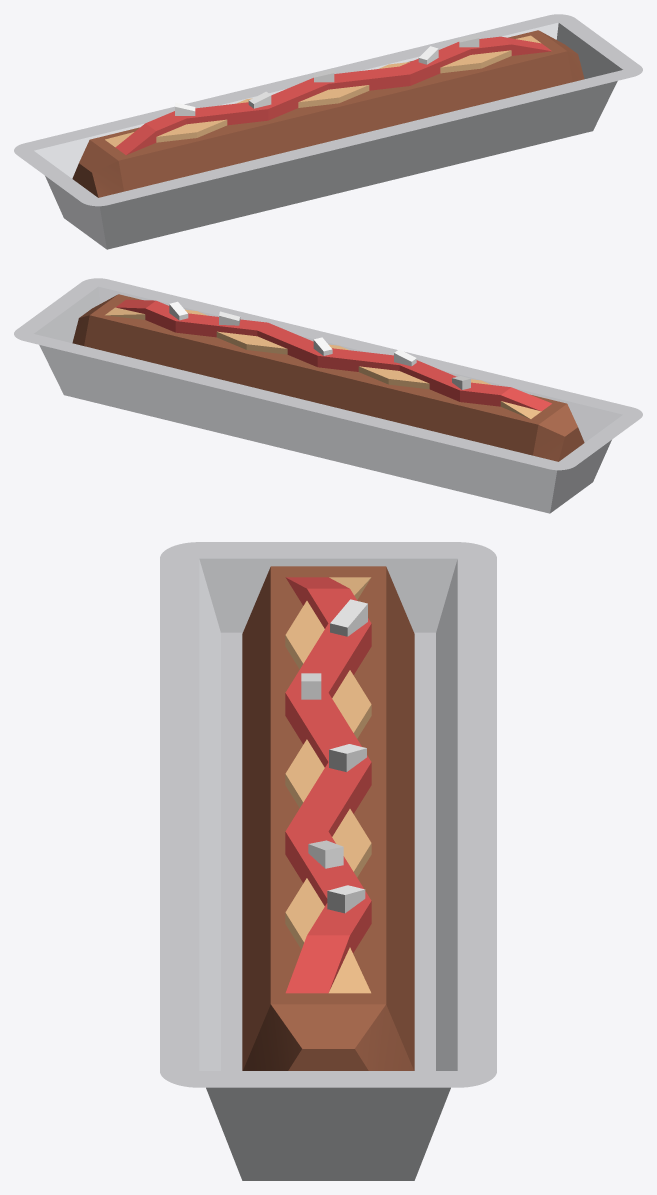
File: frikandelSpeciaal.obj
The picture shows the model from 3 angles, top to bottom: view 1: azimuth 30°, elevation 25°; view 2: azimuth 150°, elevation 25°; view 3: azimuth 270°, elevation 25°; orthographic projection. The views are drawn at different scales.
Visible parts, largest first — view 1: frikandelSpeciaal, frikandel, sauceOnions; view 2: frikandelSpeciaal, frikandel, sauceOnions; view 3: frikandelSpeciaal, frikandel, sauceOnions.
Part boxes in pixels (x1,y1,x2,y2): frikandelSpeciaal: (14,14,642,249); frikandel: (72,30,584,197); sauceOnions: (105,34,551,155); frikandelSpeciaal: (14,278,642,513); frikandel: (72,294,584,461); sauceOnions: (105,299,551,419); frikandelSpeciaal: (160,542,496,1180); frikandel: (242,566,414,1070); sauceOnions: (285,577,371,993).
Bounding box in the file's own units: 0.636 × 0.1087 × 0.1661.
